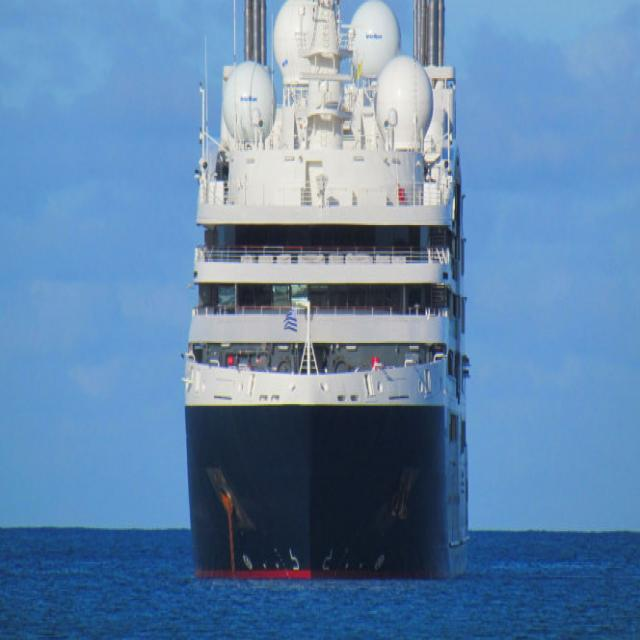cruises: (177, 1, 482, 587)
